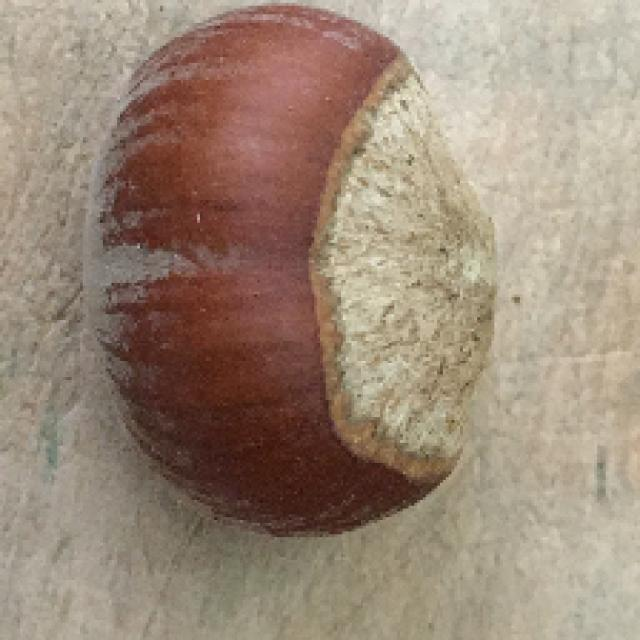qualityHazelnut: (79, 5, 503, 538)
